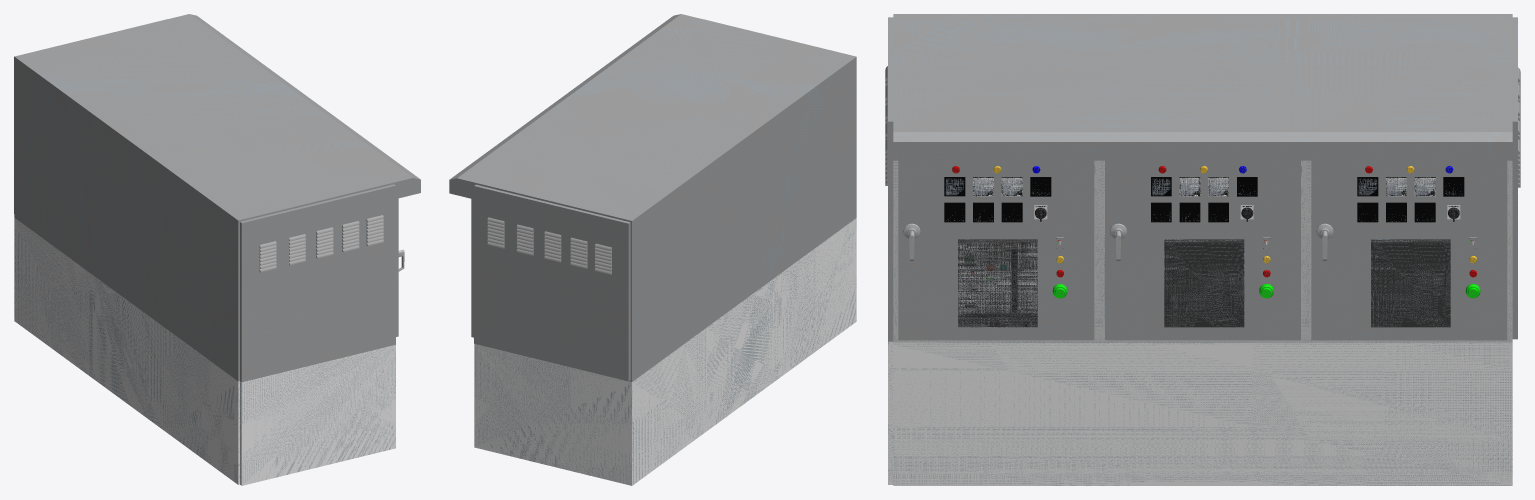
Rendered from Panel Belakang.dae.
3 renders of one model, left to right at view 1: azimuth 30°, elevation 25°; view 2: azimuth 150°, elevation 25°; view 3: azimuth 270°, elevation 25°, orthographic. The views are drawn at different scales.
Parts seen in each view (by area): view 1: group_0 (×2); view 2: group_0 (×3); view 3: group_0 (×9), group_1, image_0.
Boxes of the visible parts, box(x1,y1,x2,y2) form: group_0 (×2): box(14, 14, 420, 485); group_0 (×3): box(449, 14, 856, 485); group_0 (×9): box(888, 14, 1517, 485); group_1: box(958, 239, 1037, 327); image_0: box(958, 242, 1037, 327).
Size of the model in its own units: 44.29 by 96.44 by 61.29.
Materials: 25 (7 with a texture image).
